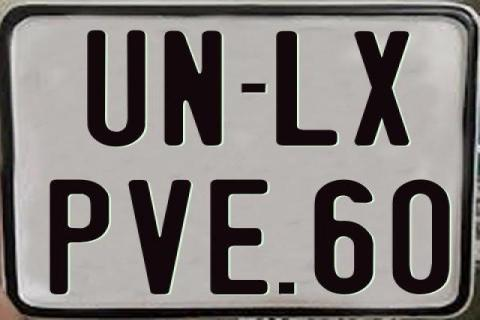0: (312, 178, 376, 296), (389, 178, 447, 296)
E: (210, 177, 272, 293)
L: (276, 29, 338, 145)
N: (162, 28, 224, 146)
P: (48, 177, 111, 293)
U: (85, 28, 147, 144)
V: (128, 178, 194, 294)
X: (352, 30, 411, 148)
